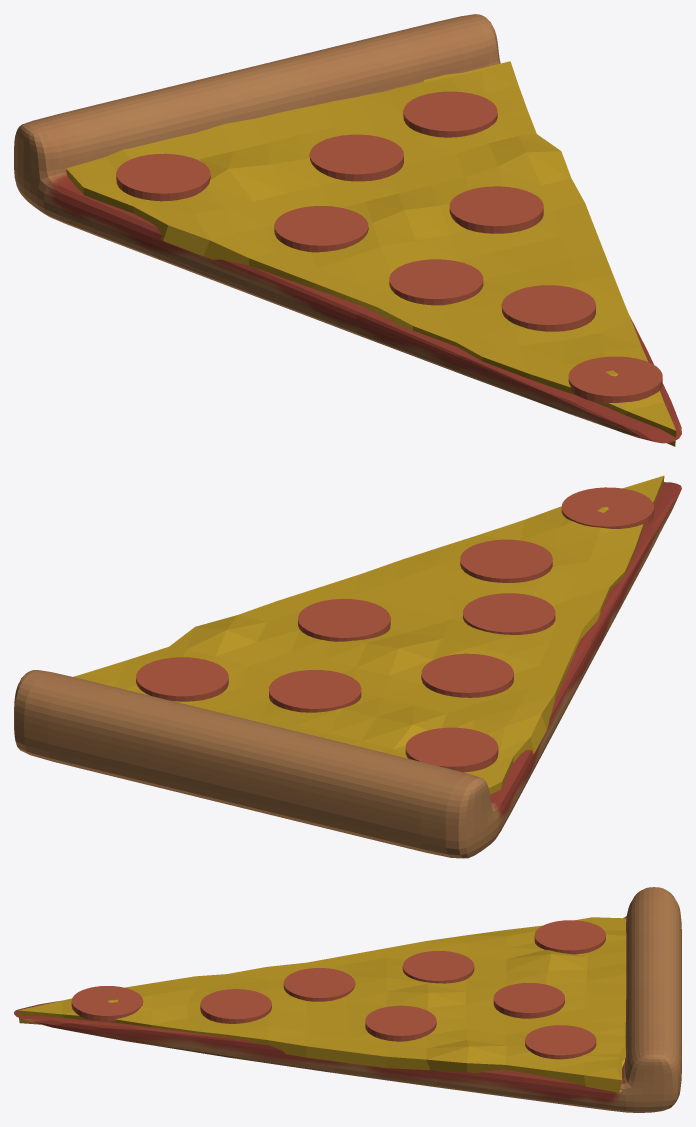
Rendered from Pizza3.0.fbx.
The picture shows the model from 3 angles, top to bottom: view 1: azimuth 30°, elevation 25°; view 2: azimuth 150°, elevation 25°; view 3: azimuth 270°, elevation 25°; orthographic projection. The views are drawn at different scales.
Parts seen in each view (by area): view 1: Pizza, Cube, Cylinder.001, Cylinder.003, Cylinder, Cylinder.006, Cylinder.005, Cylinder.007, Cylinder.002, Cylinder.004; view 2: Pizza, Cube, Cylinder.007, Cylinder.002, Cylinder.005, Cylinder.001, Cylinder, Cylinder.003, Cylinder.004, Cylinder.006; view 3: Pizza, Cube, Cylinder, Cylinder.001, Cylinder.005, Cylinder.006, Cylinder.007, Cylinder.003, Cylinder.004, Cylinder.002.
Boxes of the visible parts, <box> form: Pizza: <box>66,61,676,446</box>; Cube: <box>14,14,681,443</box>; Cylinder.001: <box>449,186,543,233</box>; Cylinder.003: <box>116,153,210,201</box>; Cylinder: <box>309,134,403,181</box>; Cylinder.006: <box>568,356,662,403</box>; Cylinder.005: <box>501,285,595,331</box>; Cylinder.007: <box>403,91,497,137</box>; Cylinder.002: <box>274,206,368,252</box>; Cylinder.004: <box>389,259,483,305</box>; Pizza: <box>73,475,664,794</box>; Cube: <box>14,482,681,858</box>; Cylinder.007: <box>136,657,228,701</box>; Cylinder.002: <box>421,653,513,697</box>; Cylinder.005: <box>460,539,552,582</box>; Cylinder.001: <box>298,599,390,641</box>; Cylinder: <box>269,669,361,712</box>; Cylinder.003: <box>405,727,498,772</box>; Cylinder.004: <box>463,593,555,634</box>; Cylinder.006: <box>561,487,654,528</box>; Pizza: <box>17,917,626,1092</box>; Cube: <box>14,887,681,1112</box>; Cylinder: <box>493,983,564,1018</box>; Cylinder.001: <box>365,1005,436,1041</box>; Cylinder.005: <box>200,989,271,1023</box>; Cylinder.006: <box>71,986,143,1021</box>; Cylinder.007: <box>525,1025,596,1059</box>; Cylinder.003: <box>534,920,605,954</box>; Cylinder.004: <box>283,968,355,1001</box>; Cylinder.002: <box>402,951,474,983</box>.
Bounding box in the file's own units: 467 × 77.47 × 760.
3 materials, 1 textured.
